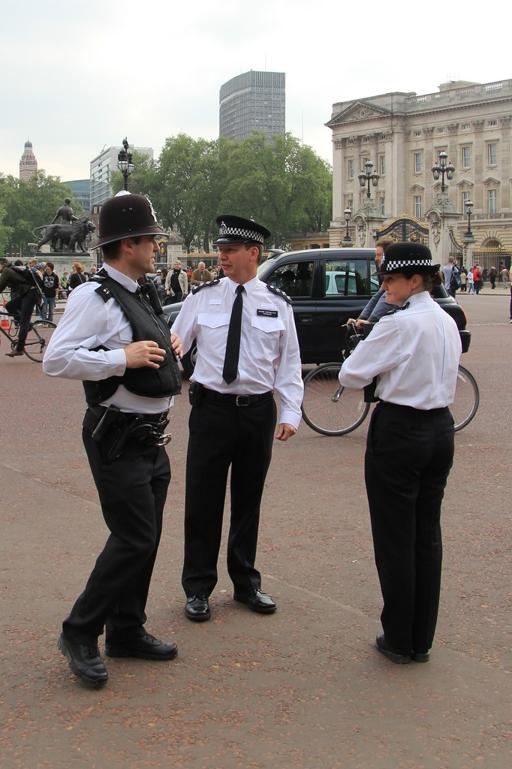non-vehicle: (301, 316, 478, 436), (0, 307, 58, 362)
